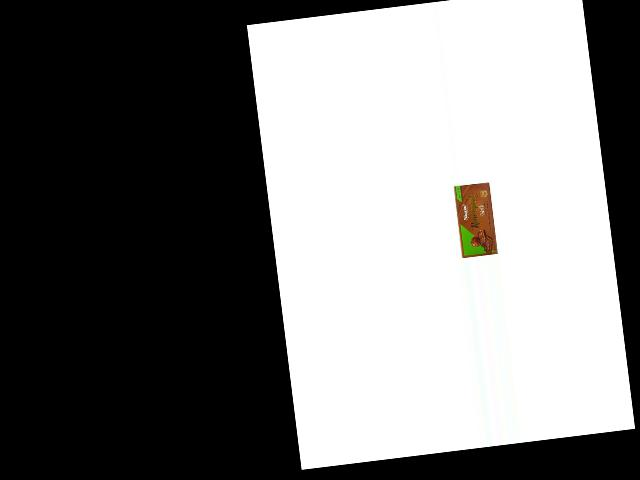chocolate: (450, 179, 499, 259)
